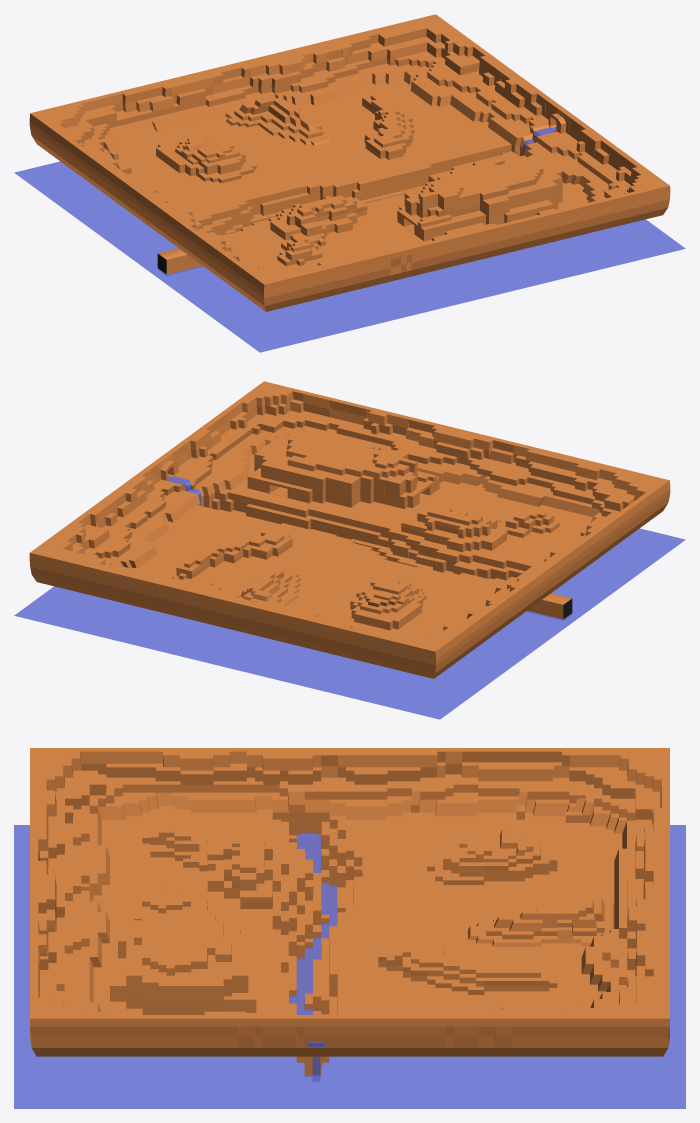
The model's file is Terrain2.fbx.
The picture shows the model from 3 angles, top to bottom: view 1: azimuth 30°, elevation 25°; view 2: azimuth 150°, elevation 25°; view 3: azimuth 270°, elevation 25°; orthographic projection. The views are drawn at different scales.
Visible parts, largest first — view 1: Ground; view 2: Ground; view 3: Ground.
Part boxes in pixels (x1,y1,x2,y2): Ground: [14, 14, 685, 352]; Ground: [14, 381, 685, 719]; Ground: [14, 748, 685, 1108].
Size of the model in its own units: 35052 by 5406 by 35052.
